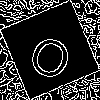O: (25, 25, 79, 83)
